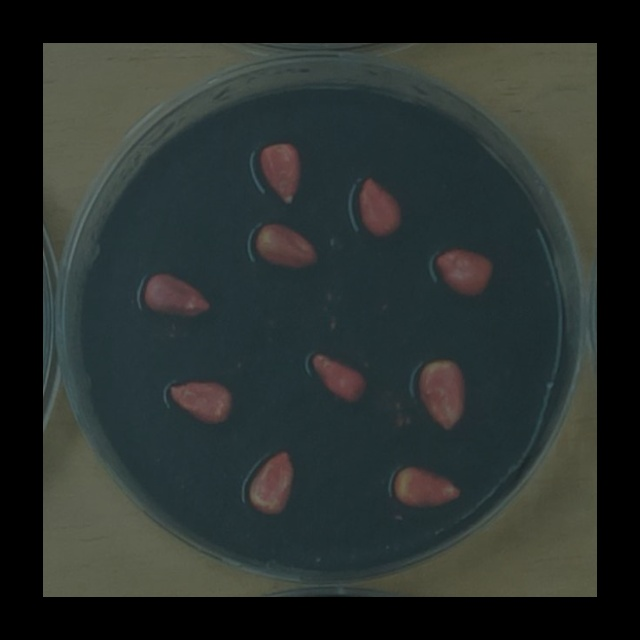Zea mays: (413, 354, 472, 438), (346, 172, 408, 245), (250, 218, 325, 278), (303, 346, 373, 410), (139, 268, 216, 326), (242, 446, 299, 523), (388, 460, 467, 514), (164, 376, 240, 432), (249, 139, 307, 212), (429, 242, 499, 302)
